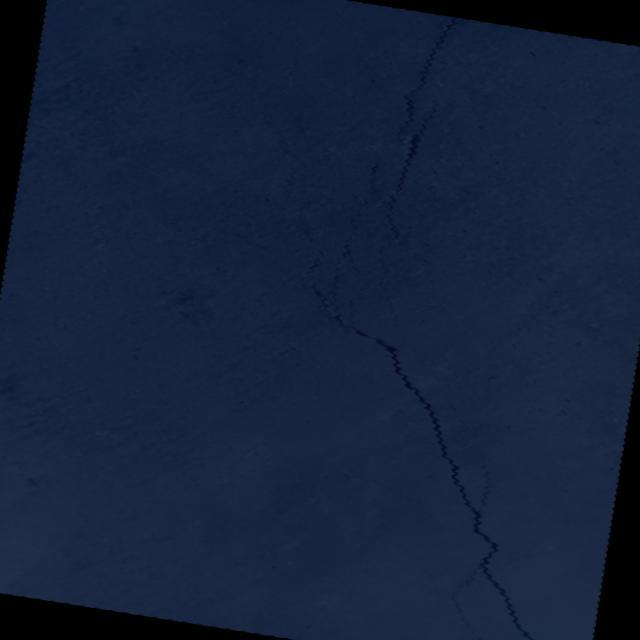crack: (246, 156, 640, 640), (368, 56, 447, 330), (396, 11, 458, 144), (272, 18, 305, 116), (256, 110, 294, 156), (282, 166, 306, 208), (296, 226, 314, 242)
